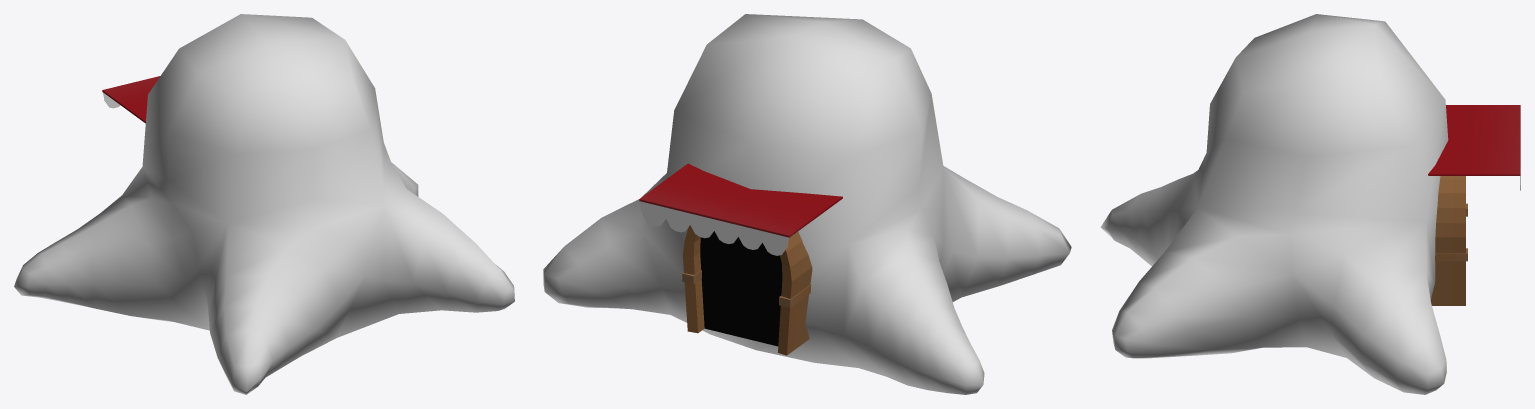
File: LOJAEXTERNA.fbx
The picture shows the model from 3 angles, left to right: view 1: azimuth 30°, elevation 25°; view 2: azimuth 150°, elevation 25°; view 3: azimuth 270°, elevation 25°; orthographic projection. The views are drawn at different scales.
Visible parts, largest first — view 1: Plane, Plane.001; view 2: Plane, Cylinder, Plane.001, Circle; view 3: Plane, Plane.001, Cylinder.
Part boxes in pixels (x1,y1,x2,y2): Plane: (14, 14, 514, 394); Plane.001: (102, 76, 160, 123); Plane: (543, 14, 1071, 394); Cylinder: (682, 225, 812, 355); Plane.001: (639, 163, 842, 237); Circle: (640, 201, 788, 255); Plane: (1100, 14, 1448, 394); Plane.001: (1428, 105, 1520, 175); Cylinder: (1430, 176, 1467, 305).
Bounding box in the file's own units: 2970 × 2048 × 2584.
